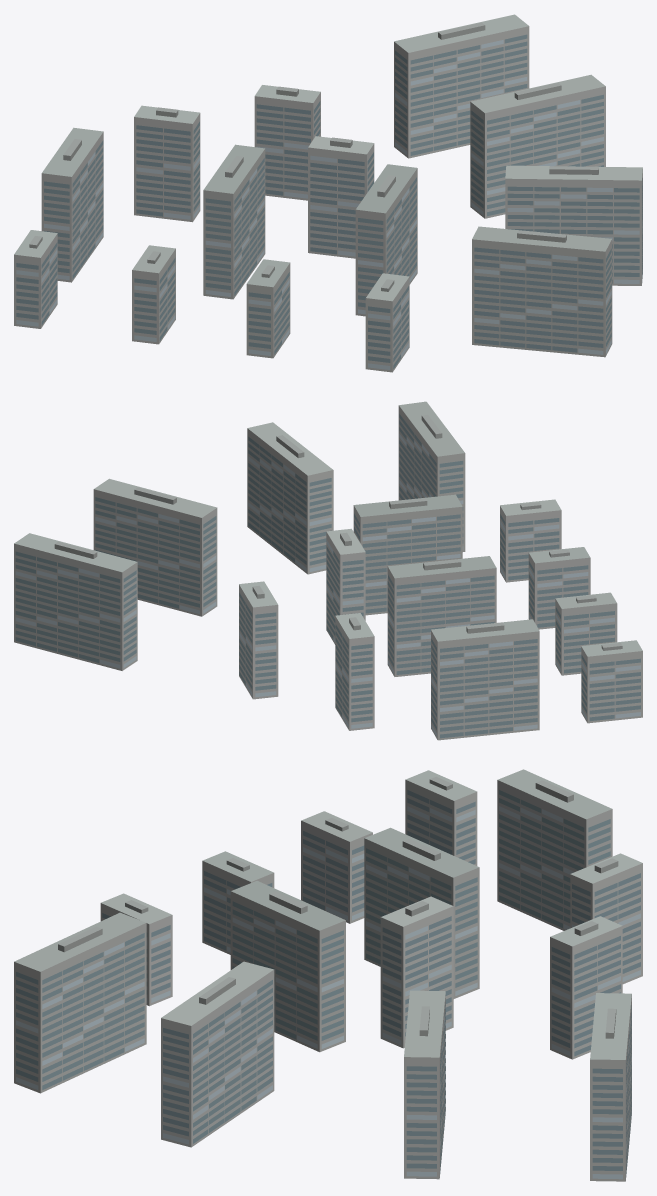
Rendered from apt-a15213002.glb.
3 renders of one model, top to bottom at view 1: azimuth 30°, elevation 25°; view 2: azimuth 150°, elevation 25°; view 3: azimuth 270°, elevation 25°, orthographic. The views are drawn at different scales.
Visible parts, largest first — view 1: apt-a15213002; view 2: apt-a15213002; view 3: apt-a15213002.
Boxes of the visible parts, x1,y1,x2,y2 form: apt-a15213002: (14, 14, 642, 372); apt-a15213002: (14, 401, 642, 740); apt-a15213002: (14, 769, 642, 1181).
Size of the model in its own units: 239 by 43 by 193.
